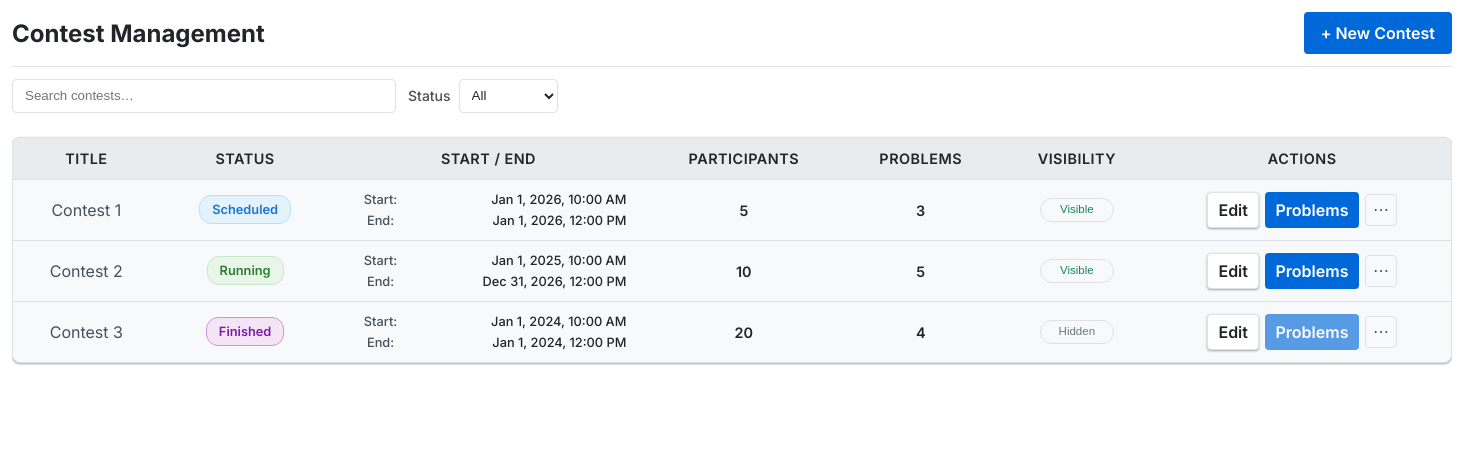
Test: ContestManagement Component › disables Rejudge for finished contests with a visible reason
Expected: the text "Contest 3" is shown, [13,301,160,362]
Click the button named "row actions for Contest 3" at (1381, 332), box [1365,316,1397,348]
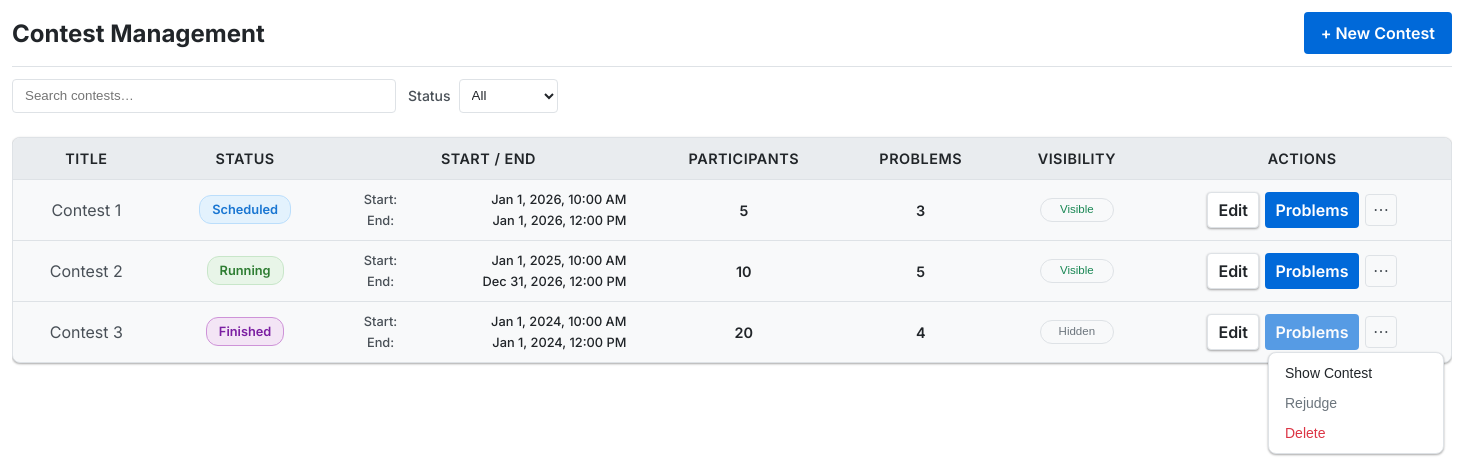
Expected: the menu item "Rejudge" is disabled, [1274,388,1438,418]
